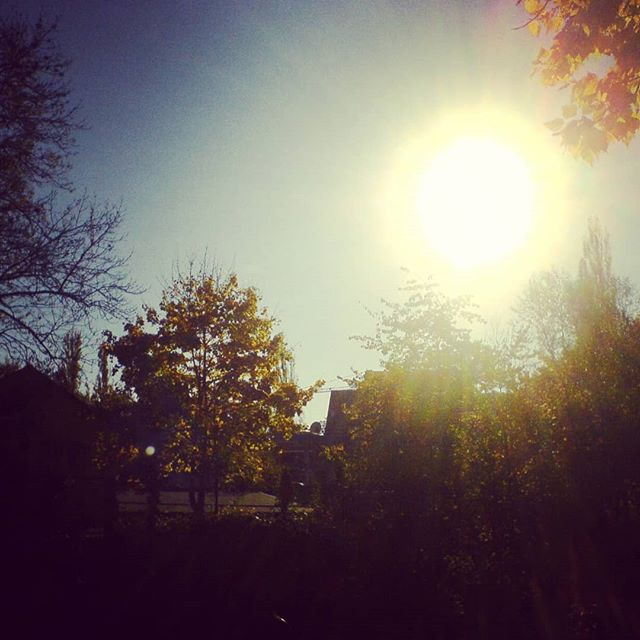sky: (120, 1, 640, 318)
sun: (390, 71, 565, 260)
tree: (102, 281, 304, 541), (1, 23, 117, 354)
